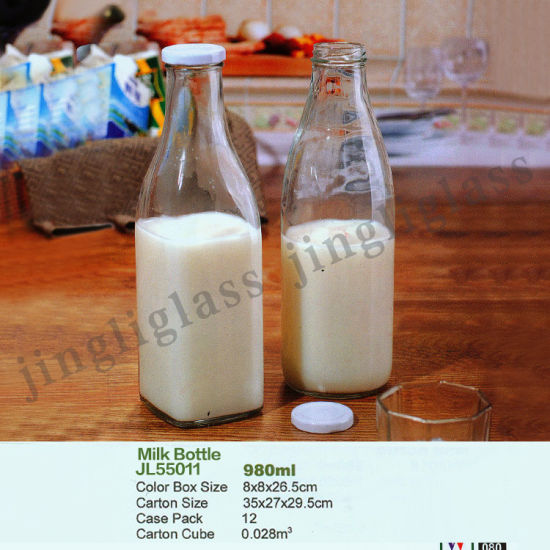glass of milk: (133, 34, 268, 423), (278, 37, 406, 406)
